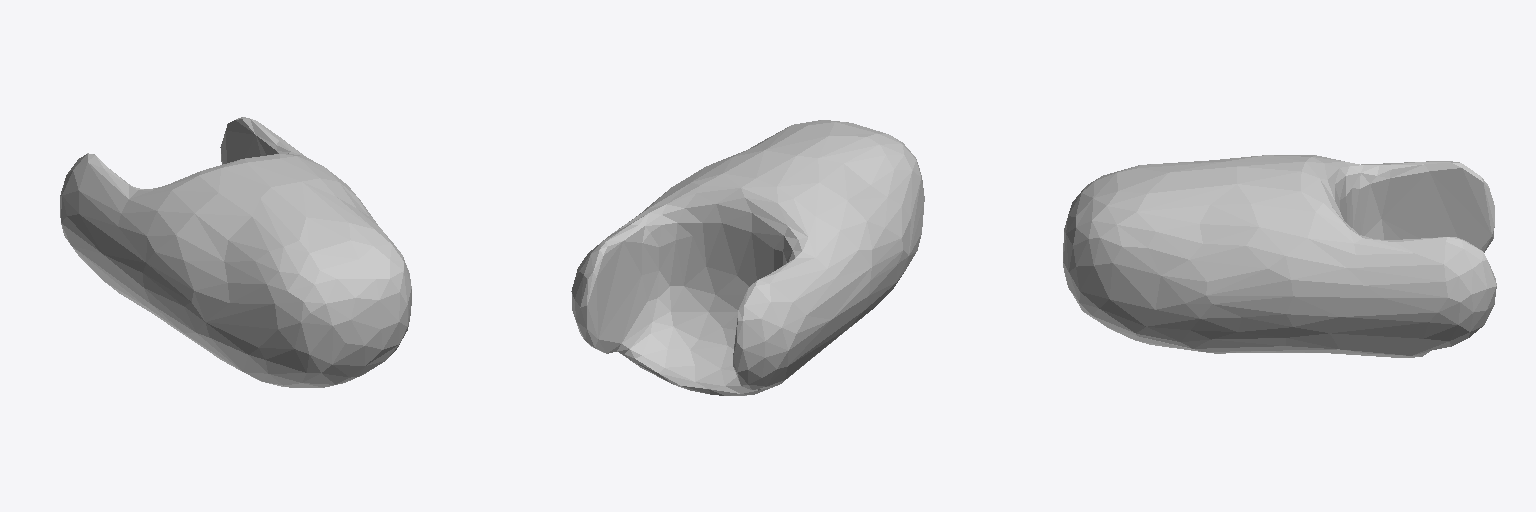
File: seg_M_mirrored.obj
3 renders of one model, left to right at view 1: azimuth 30°, elevation 25°; view 2: azimuth 150°, elevation 25°; view 3: azimuth 270°, elevation 25°, orthographic.
Bounding box in the file's own units: 18.28 × 13.83 × 31.53.